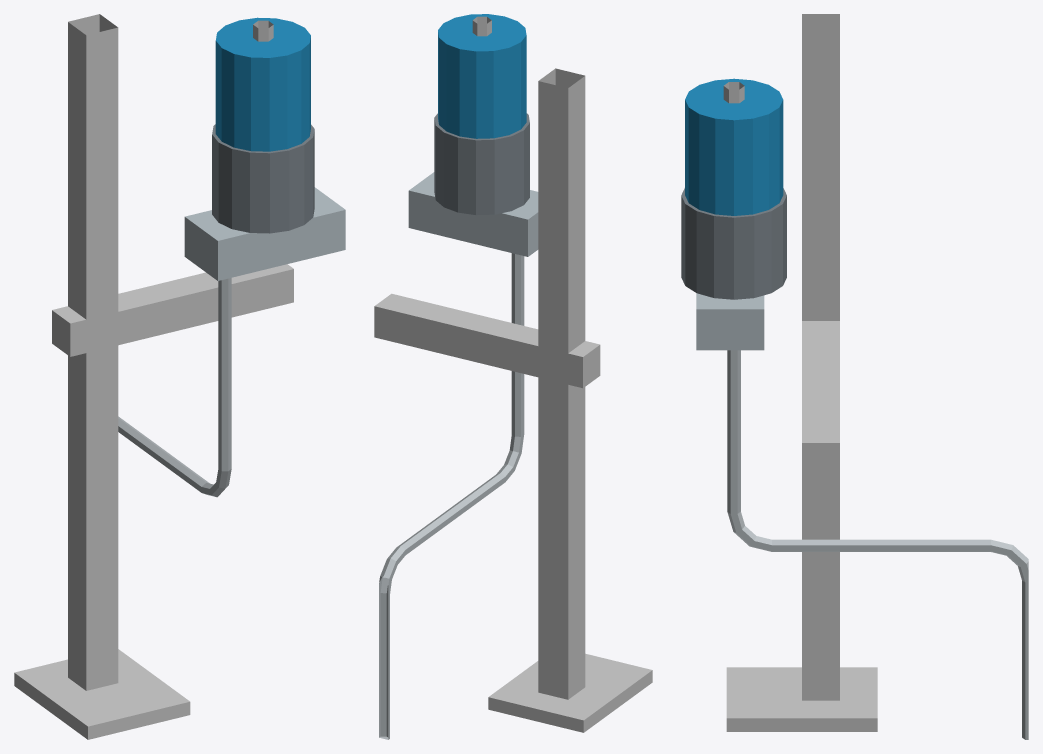
The model's file is cell_25.obj.
3 renders of one model, left to right at view 1: azimuth 30°, elevation 25°; view 2: azimuth 150°, elevation 25°; view 3: azimuth 270°, elevation 25°, orthographic. The views are drawn at different scales.
Size of the model in its own units: 0.38 by 1 by 0.46.
